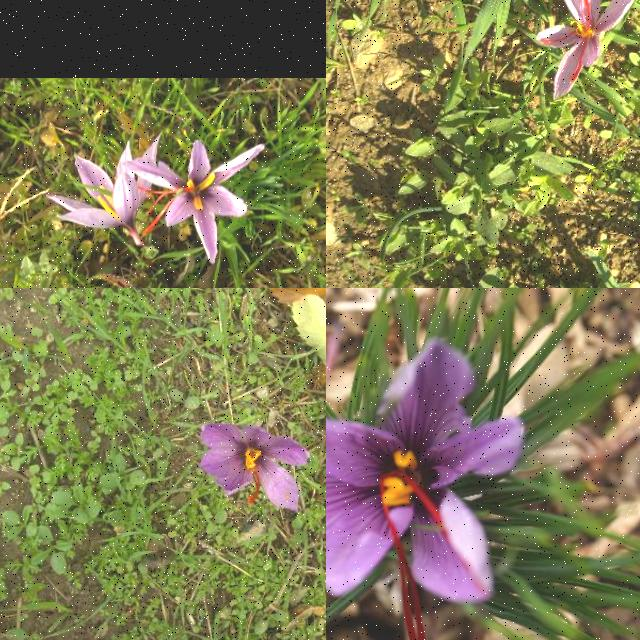flower: (326, 339, 525, 640), (123, 140, 265, 264), (45, 132, 162, 230), (198, 422, 312, 512), (536, 0, 637, 100)
